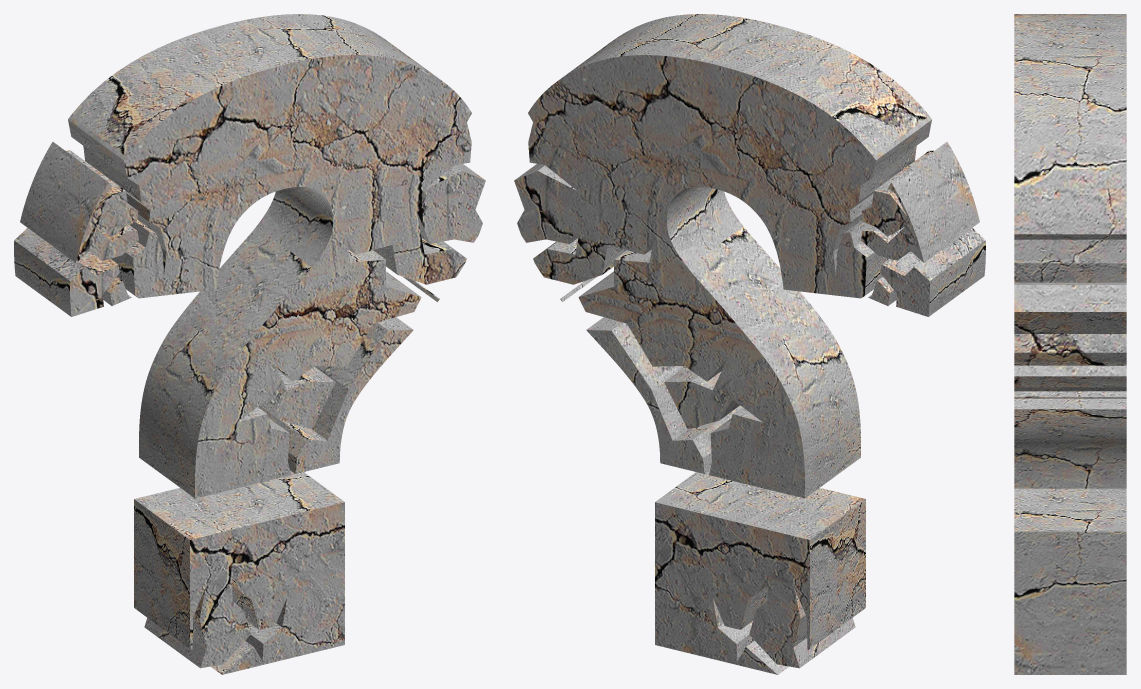
Rendered from Question.FBX.
3 renders of one model, left to right at view 1: azimuth 30°, elevation 25°; view 2: azimuth 150°, elevation 25°; view 3: azimuth 270°, elevation 25°, orthographic.
Visible parts, largest first — view 1: Question; view 2: Question; view 3: Question.
Part boxes in pixels (x1,y1,x2,y2): Question: (14, 14, 485, 674); Question: (514, 14, 985, 674); Question: (1014, 14, 1126, 674).
Size of the model in its own units: 64.28 by 87.89 by 15.
Materials: 1 (1 with a texture image).
